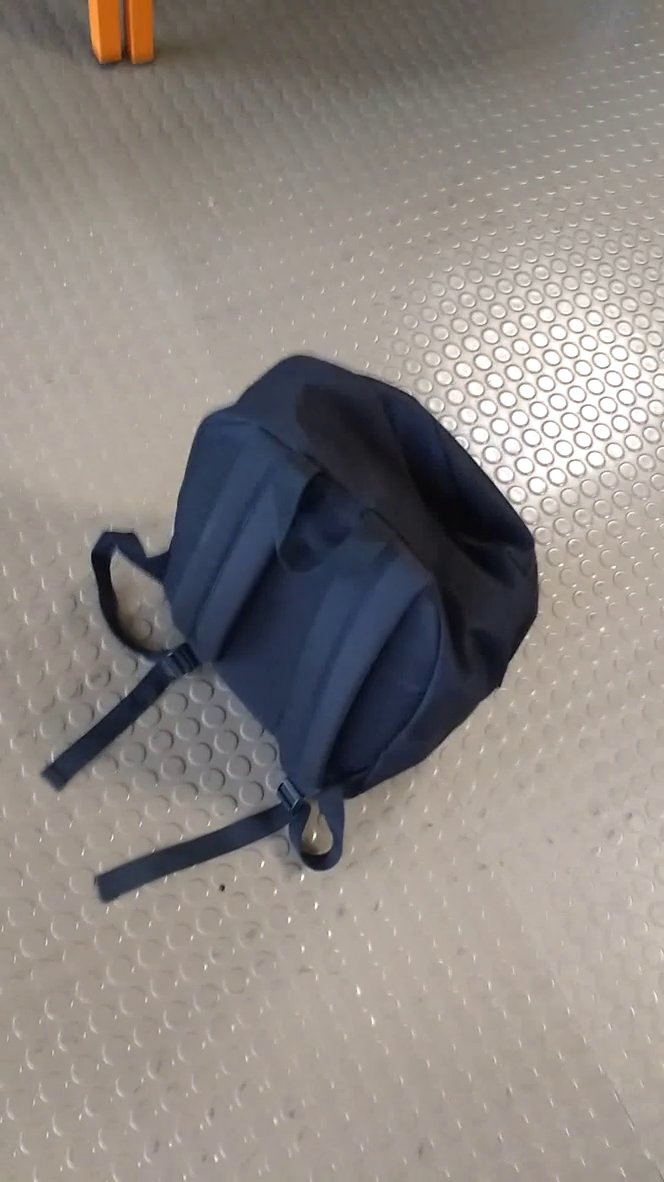bag: (34, 331, 548, 918)
